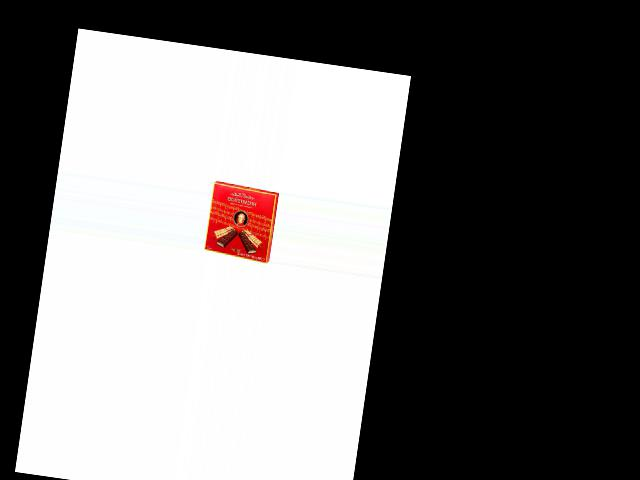chocolate: (201, 181, 279, 265)
